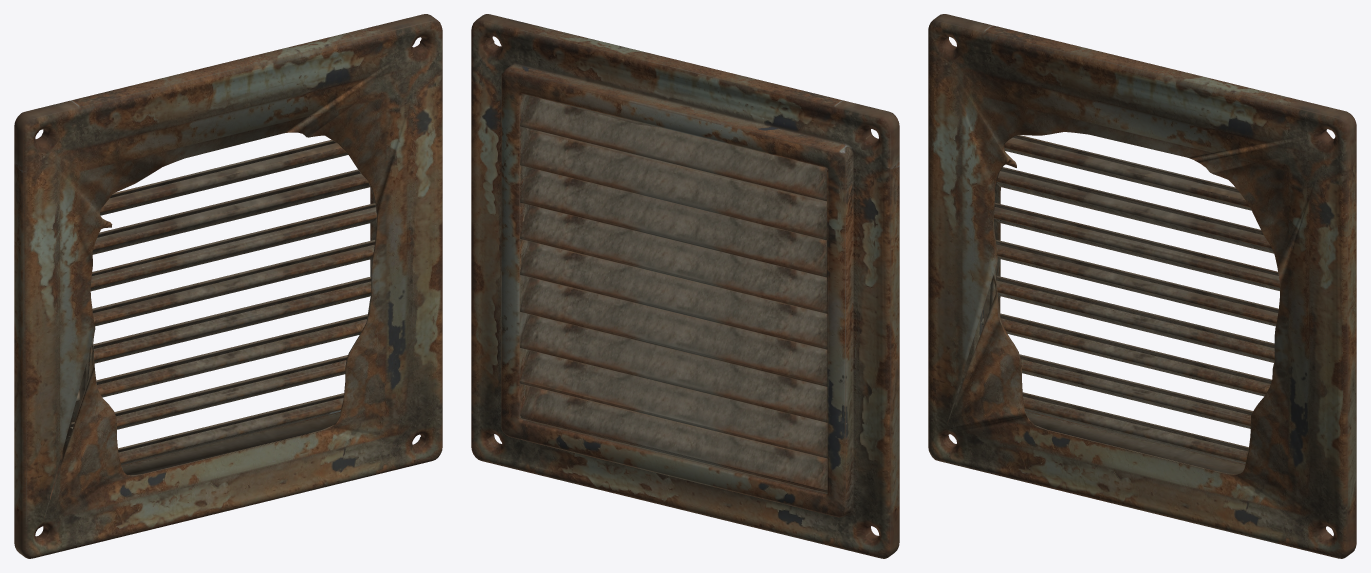
File: silo81_vent_grille.glb
3 views of the same model, side by side, from view 1: azimuth 30°, elevation 25°; view 2: azimuth 150°, elevation 25°; view 3: azimuth 330°, elevation 25° (orthographic).
Size of the model in its own units: 0.9497 by 0.9526 by 0.0747.
1 material, 1 textured.
